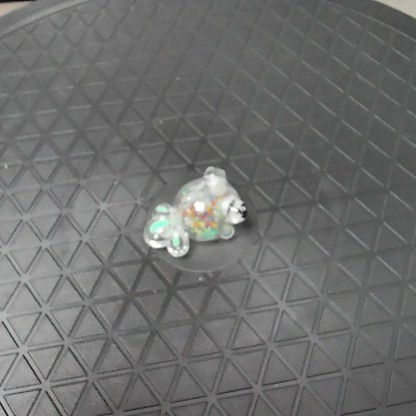whitefish: (143, 158, 251, 259)
